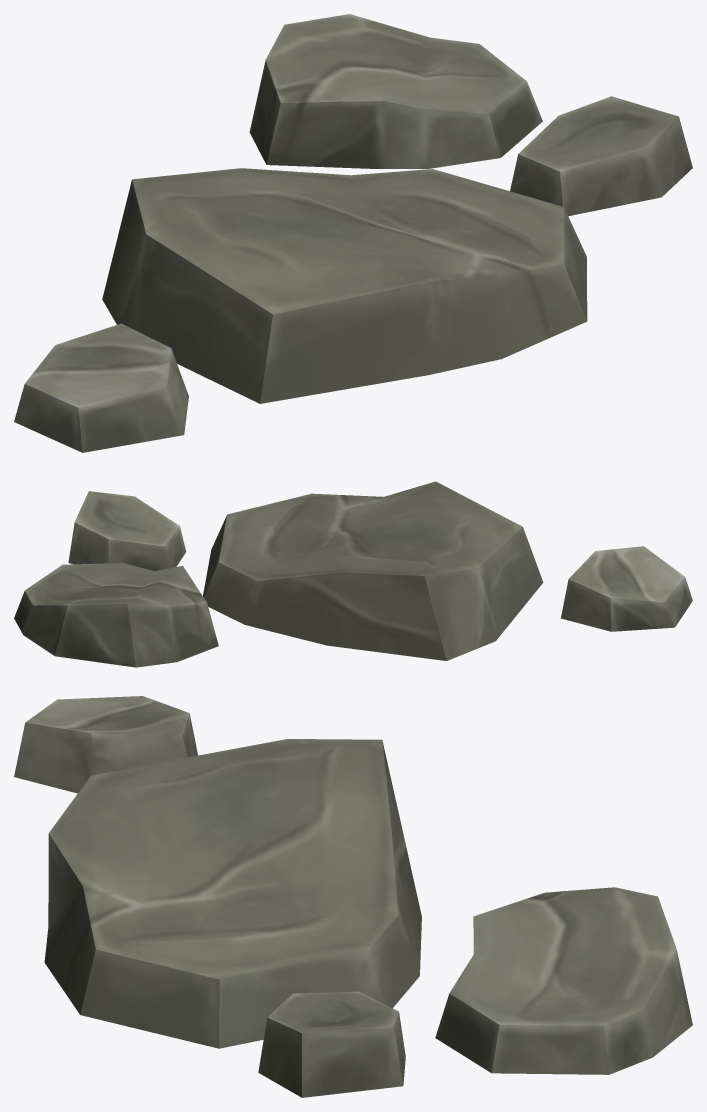
The model's file is Rock_02.fbx.
3 views of the same model, one above another, from view 1: azimuth 30°, elevation 25°; view 2: azimuth 150°, elevation 25°; view 3: azimuth 270°, elevation 25° (orthographic). The views are drawn at different scales.
Parts seen in each view (by area): view 1: polySurface581; view 2: polySurface581; view 3: polySurface581.
Boxes of the visible parts, box(x1,y1,x2,y2) form: polySurface581: box(14, 14, 692, 452); polySurface581: box(14, 481, 692, 667); polySurface581: box(14, 696, 692, 1097).
Bounding box in the file's own units: 145 × 20.47 × 108.
1 material, 1 textured.
